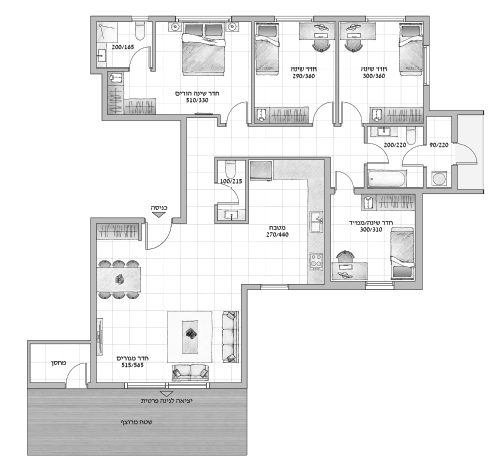room: (89, 215, 247, 387), (244, 156, 330, 289), (152, 16, 255, 122), (335, 15, 430, 125), (324, 187, 424, 289), (251, 16, 339, 127), (91, 16, 156, 73)
